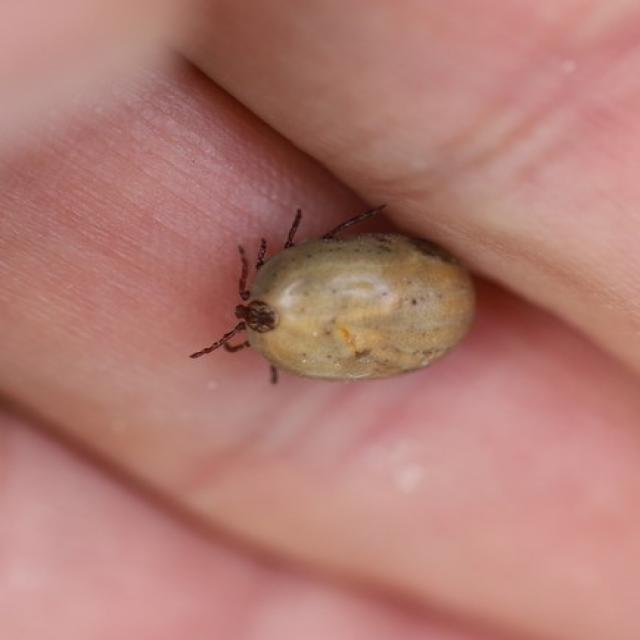Dermacentor Reticulatus-F-Fed: (187, 205, 476, 385)
